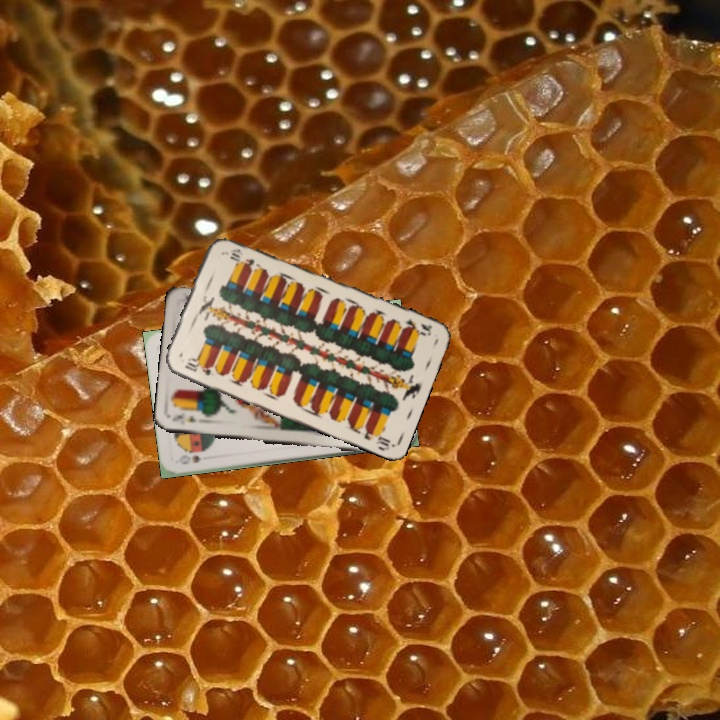E10: (395, 314, 435, 339), (180, 355, 214, 378)
EK: (168, 411, 199, 425)
SO: (175, 451, 203, 467)
